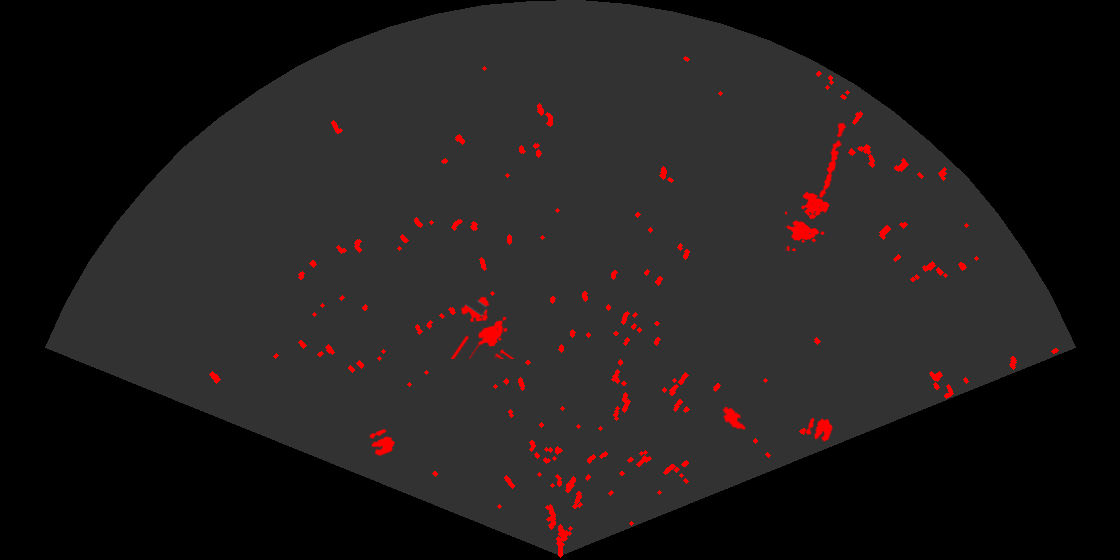AUV: (721, 405, 747, 432)
ball: (368, 427, 396, 458), (804, 416, 834, 444)
cage: (449, 295, 516, 359), (785, 190, 831, 251)
chain: (818, 119, 848, 200)
